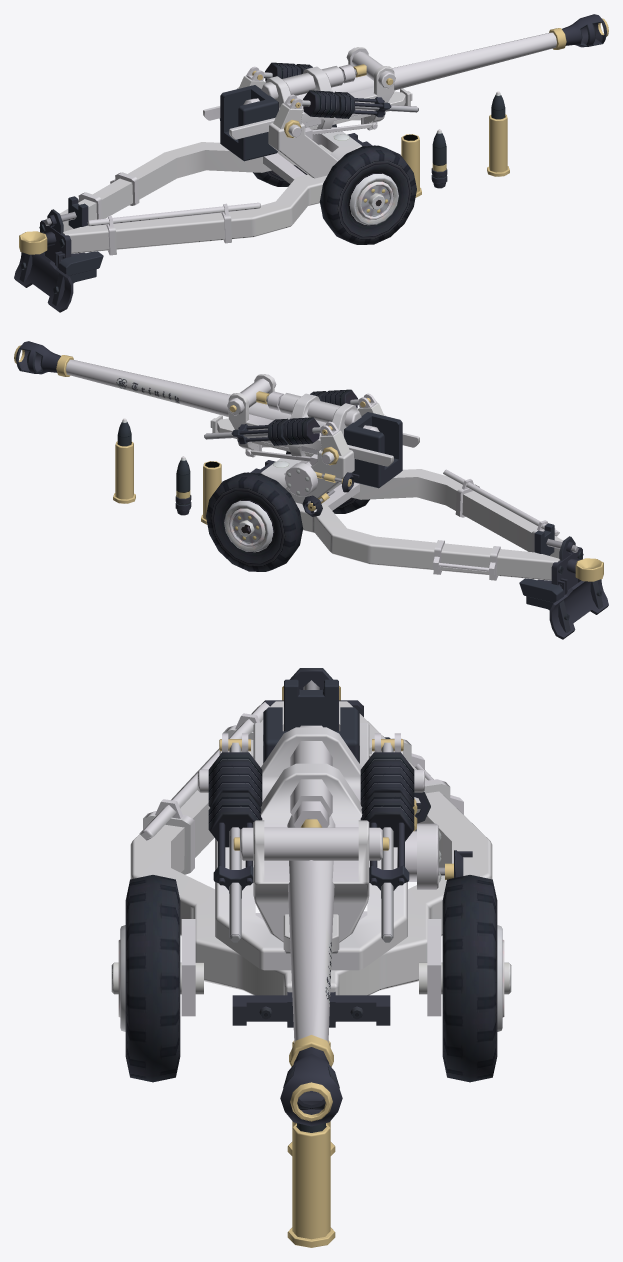
3 renders of one model, top to bottom at view 1: azimuth 30°, elevation 25°; view 2: azimuth 150°, elevation 25°; view 3: azimuth 270°, elevation 25°, orthographic. The views are drawn at different scales.
Parts seen in each view (by area): view 1: Object_4; view 2: Object_4; view 3: Object_4.
Part boxes in pixels (<box>): Object_4: <box>14,14,608,312</box>; Object_4: <box>14,341,608,639</box>; Object_4: <box>111,668,511,1247</box>.
Bounding box in the file's own units: 33.25 × 8.59 × 9.85.
Materials: 1 (1 with a texture image).
